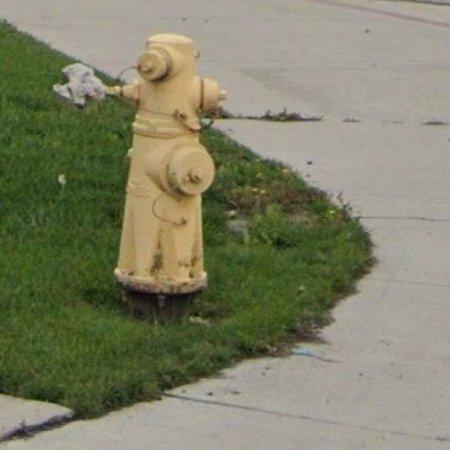a fire hydrant: (106, 33, 221, 294)
